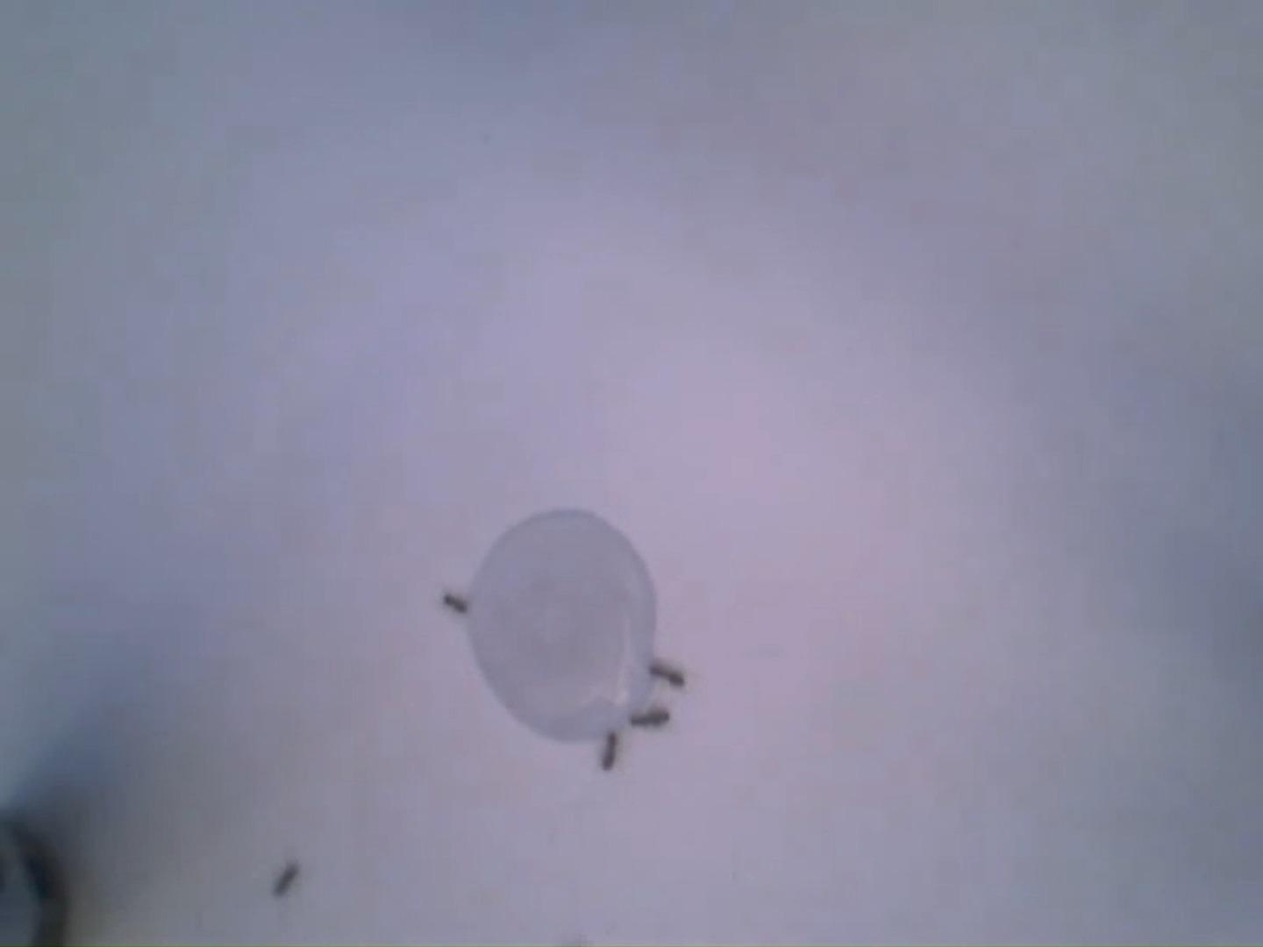Ant: (650, 660, 688, 686), (275, 861, 301, 896), (634, 705, 673, 728), (603, 730, 621, 771), (444, 592, 470, 613)
